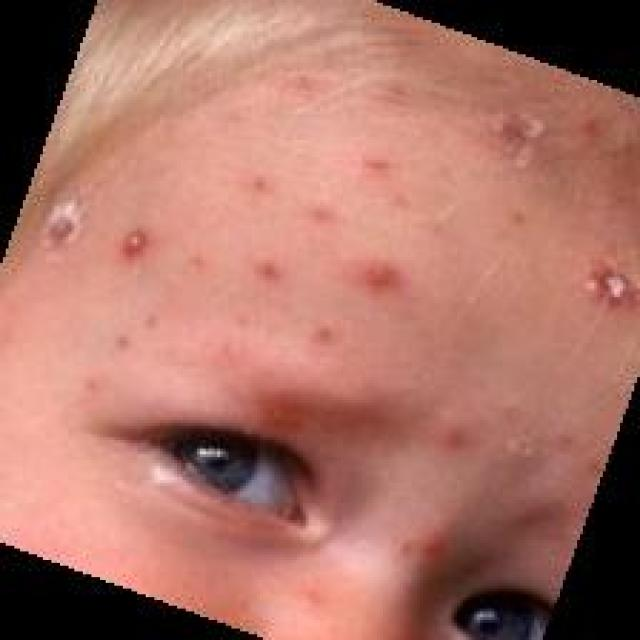others: (45, 83, 640, 485)
